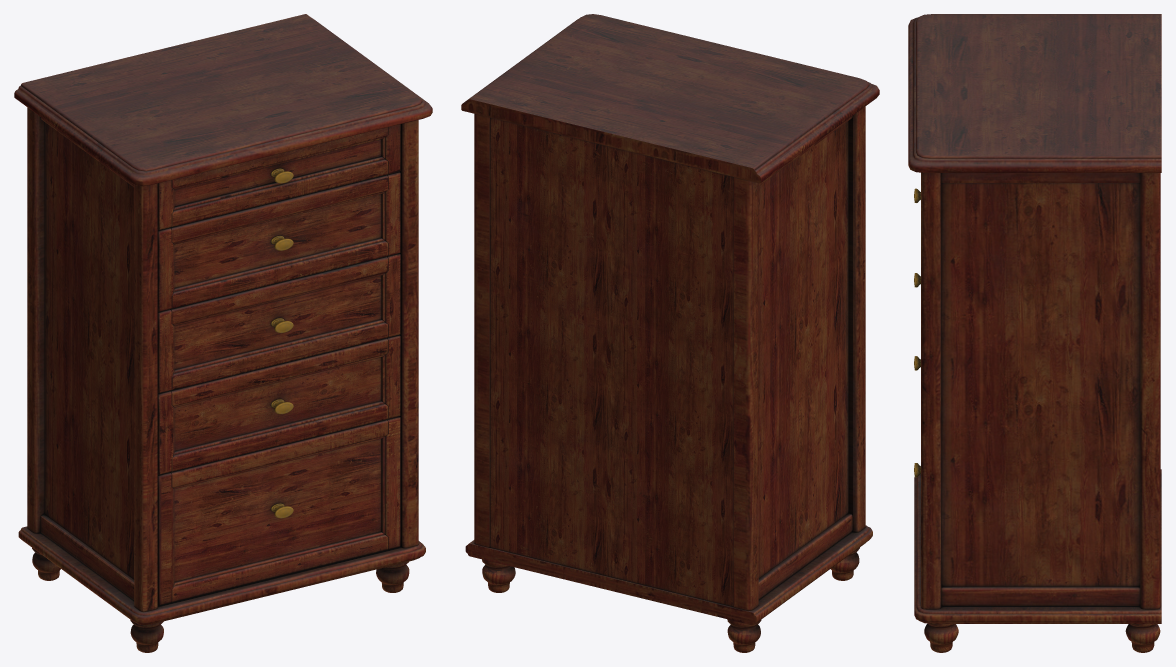
File: Cupboard.glb
3 views of the same model, side by side, from view 1: azimuth 30°, elevation 25°; view 2: azimuth 150°, elevation 25°; view 3: azimuth 270°, elevation 25° (orthographic). The views are drawn at different scales.
Parts seen in each view (by area): view 1: Obj3d66-719011-1-138, defaultMaterial; view 2: Obj3d66-719011-1-138, defaultMaterial; view 3: Obj3d66-719011-1-138, defaultMaterial.
Boxes of the visible parts, x1=… form: Obj3d66-719011-1-138: x1=14, y1=14, x2=432, y2=624; defaultMaterial: x1=32, y1=124, x2=409, y2=652; Obj3d66-719011-1-138: x1=461, y1=14, x2=879, y2=625; defaultMaterial: x1=482, y1=117, x2=859, y2=652; Obj3d66-719011-1-138: x1=908, y1=14, x2=1161, y2=623; defaultMaterial: x1=914, y1=188, x2=1160, y2=652.
Bounding box in the file's own units: 0.7277 × 1.14 × 0.5198.
Materials: 2 (2 with a texture image).
